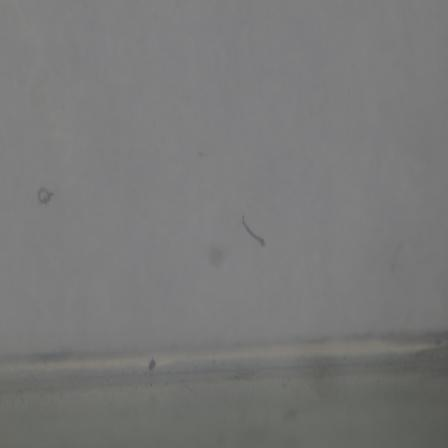Jentik-Nyamuk: (238, 214, 270, 251), (36, 181, 57, 210)
